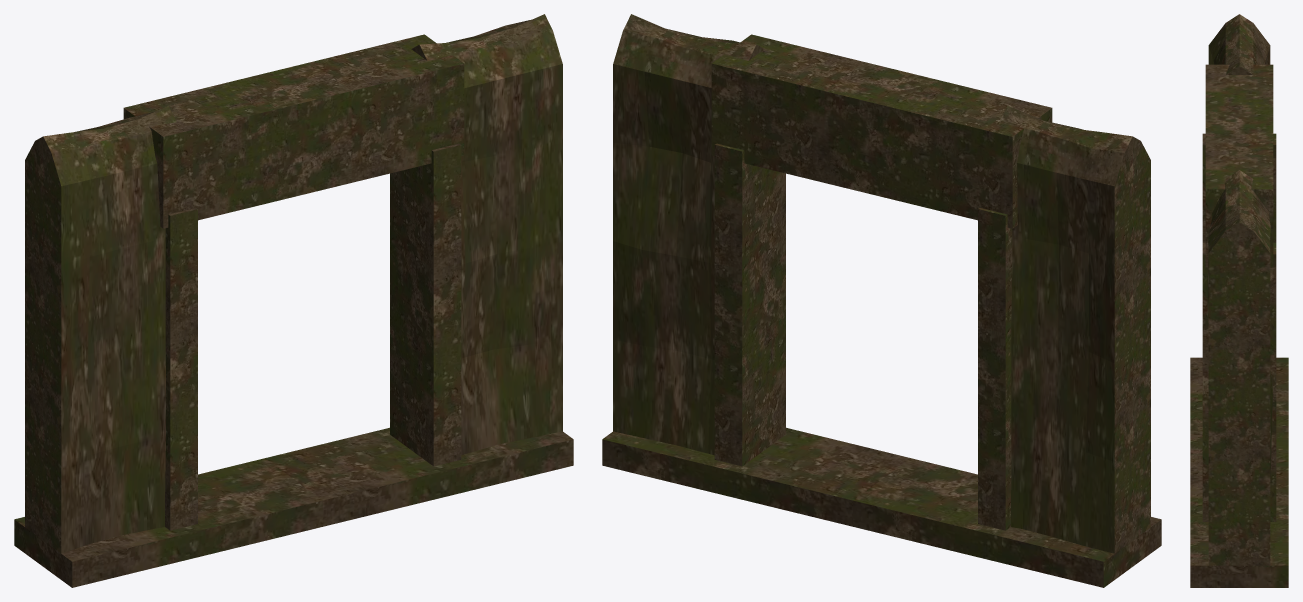
File: cave_gate_01_limestone.glb
The picture shows the model from 3 angles, left to right: view 1: azimuth 30°, elevation 25°; view 2: azimuth 150°, elevation 25°; view 3: azimuth 270°, elevation 25°; orthographic projection. The views are drawn at different scales.
Visible parts, largest first — view 1: cave_gate_01_limestone; view 2: cave_gate_01_limestone; view 3: cave_gate_01_limestone.
Boxes of the visible parts, x1=… form: cave_gate_01_limestone: x1=14, y1=14, x2=573, y2=587; cave_gate_01_limestone: x1=602, y1=14, x2=1161, y2=587; cave_gate_01_limestone: x1=1190, y1=14, x2=1288, y2=587.
Bounding box in the file's own units: 4 × 3.28 × 0.7998.
Materials: 2 (2 with a texture image).
